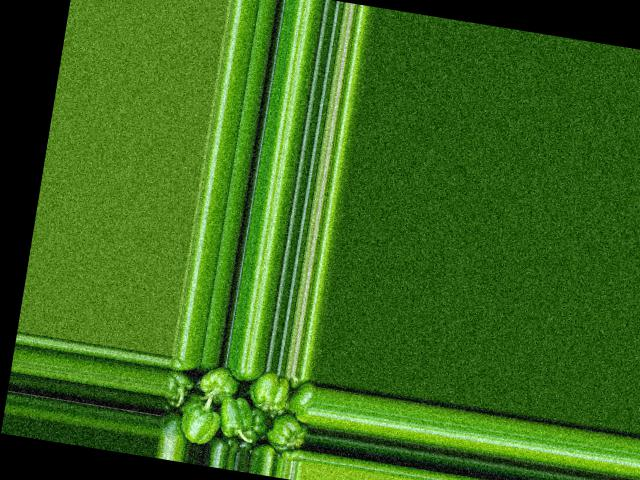bell_pepper: (157, 411, 194, 444)
